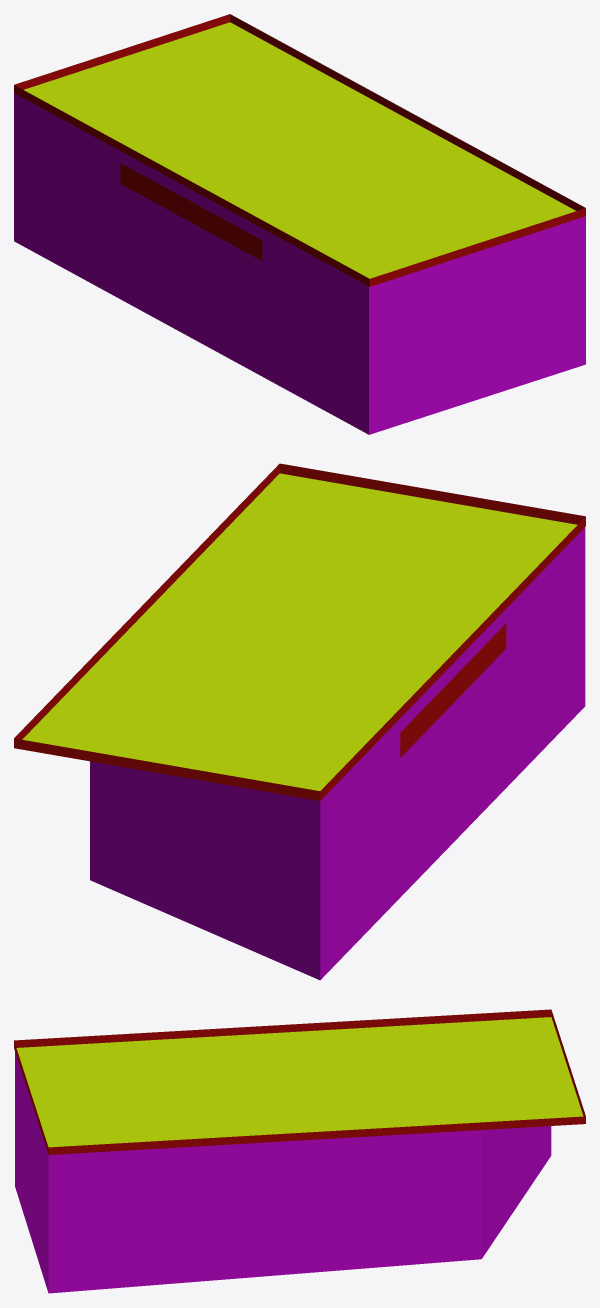
The model's file is niv_29.glb.
3 renders of one model, top to bottom at view 1: azimuth 30°, elevation 25°; view 2: azimuth 150°, elevation 25°; view 3: azimuth 270°, elevation 25°, orthographic. The views are drawn at different scales.
Visible parts, largest first — view 1: niv_29; view 2: niv_29; view 3: niv_29.
Boxes of the visible parts, x1,y1,x2,y2 form: niv_29: (14,14,585,434); niv_29: (14,463,585,980); niv_29: (14,1009,585,1293).
Bounding box in the file's own units: 13.58 × 6.71 × 23.79.
